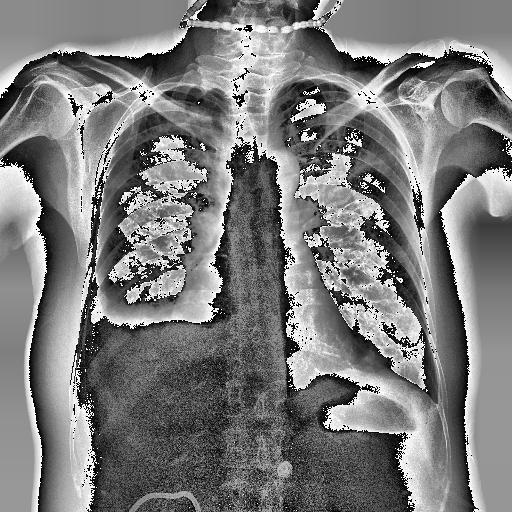10- Pleural effusion: (76, 296, 227, 398), (81, 278, 207, 396), (79, 275, 195, 400)
11- Pleural thickening: (350, 338, 380, 368), (131, 90, 164, 110)
13- Pulmonary fibrosis: (321, 161, 382, 202), (107, 171, 160, 195)
3- Cardiomegaly: (170, 308, 356, 380)
6- Infiltration: (108, 104, 222, 192), (349, 134, 400, 176), (140, 108, 166, 140)
7- Lung Opacity: (321, 161, 382, 202), (101, 296, 184, 322), (107, 171, 160, 195), (140, 108, 166, 140)
9- Other lesion: (217, 113, 235, 183)
